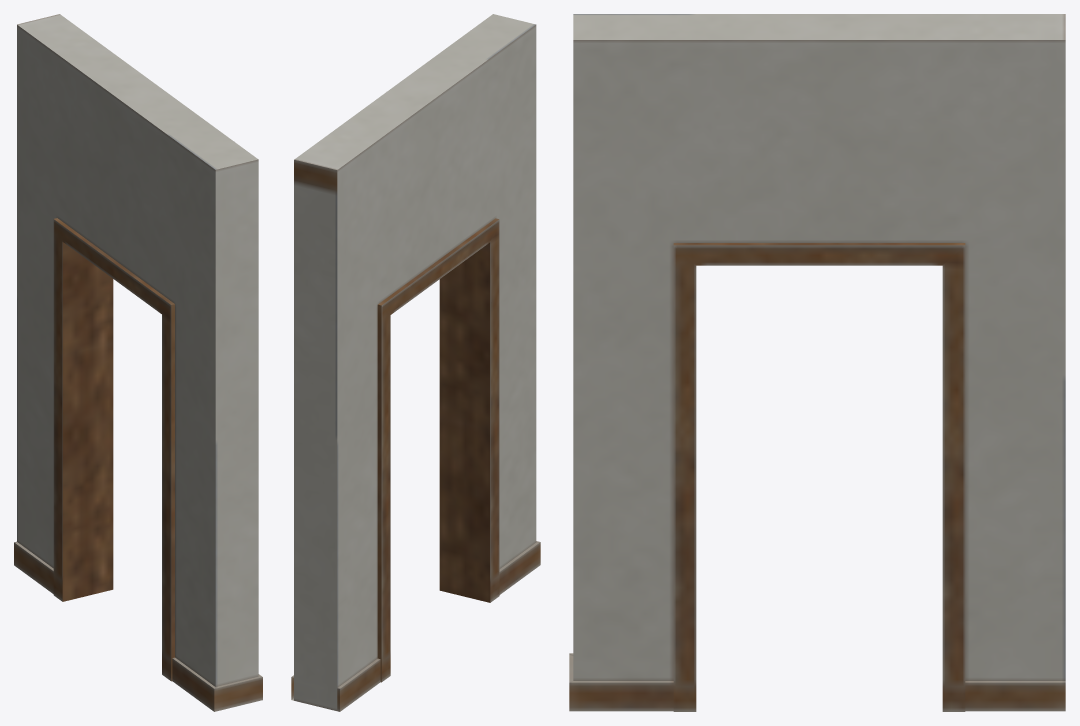
File: SM_Wall_Door_01.fbx
The picture shows the model from 3 angles, left to right: view 1: azimuth 30°, elevation 25°; view 2: azimuth 150°, elevation 25°; view 3: azimuth 270°, elevation 25°; orthographic projection. The views are drawn at different scales.
Parts seen in each view (by area): view 1: SM_Wall_Door_01; view 2: SM_Wall_Door_01; view 3: SM_Wall_Door_01.
Part boxes in pixels (<box>): SM_Wall_Door_01: <box>14,14,262,711</box>; SM_Wall_Door_01: <box>291,14,540,711</box>; SM_Wall_Door_01: <box>569,14,1065,711</box>.
Bounding box in the file's own units: 29.41 × 300 × 202.
